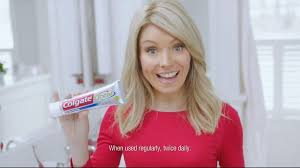colgate-total-150gm: (51, 79, 126, 118)
